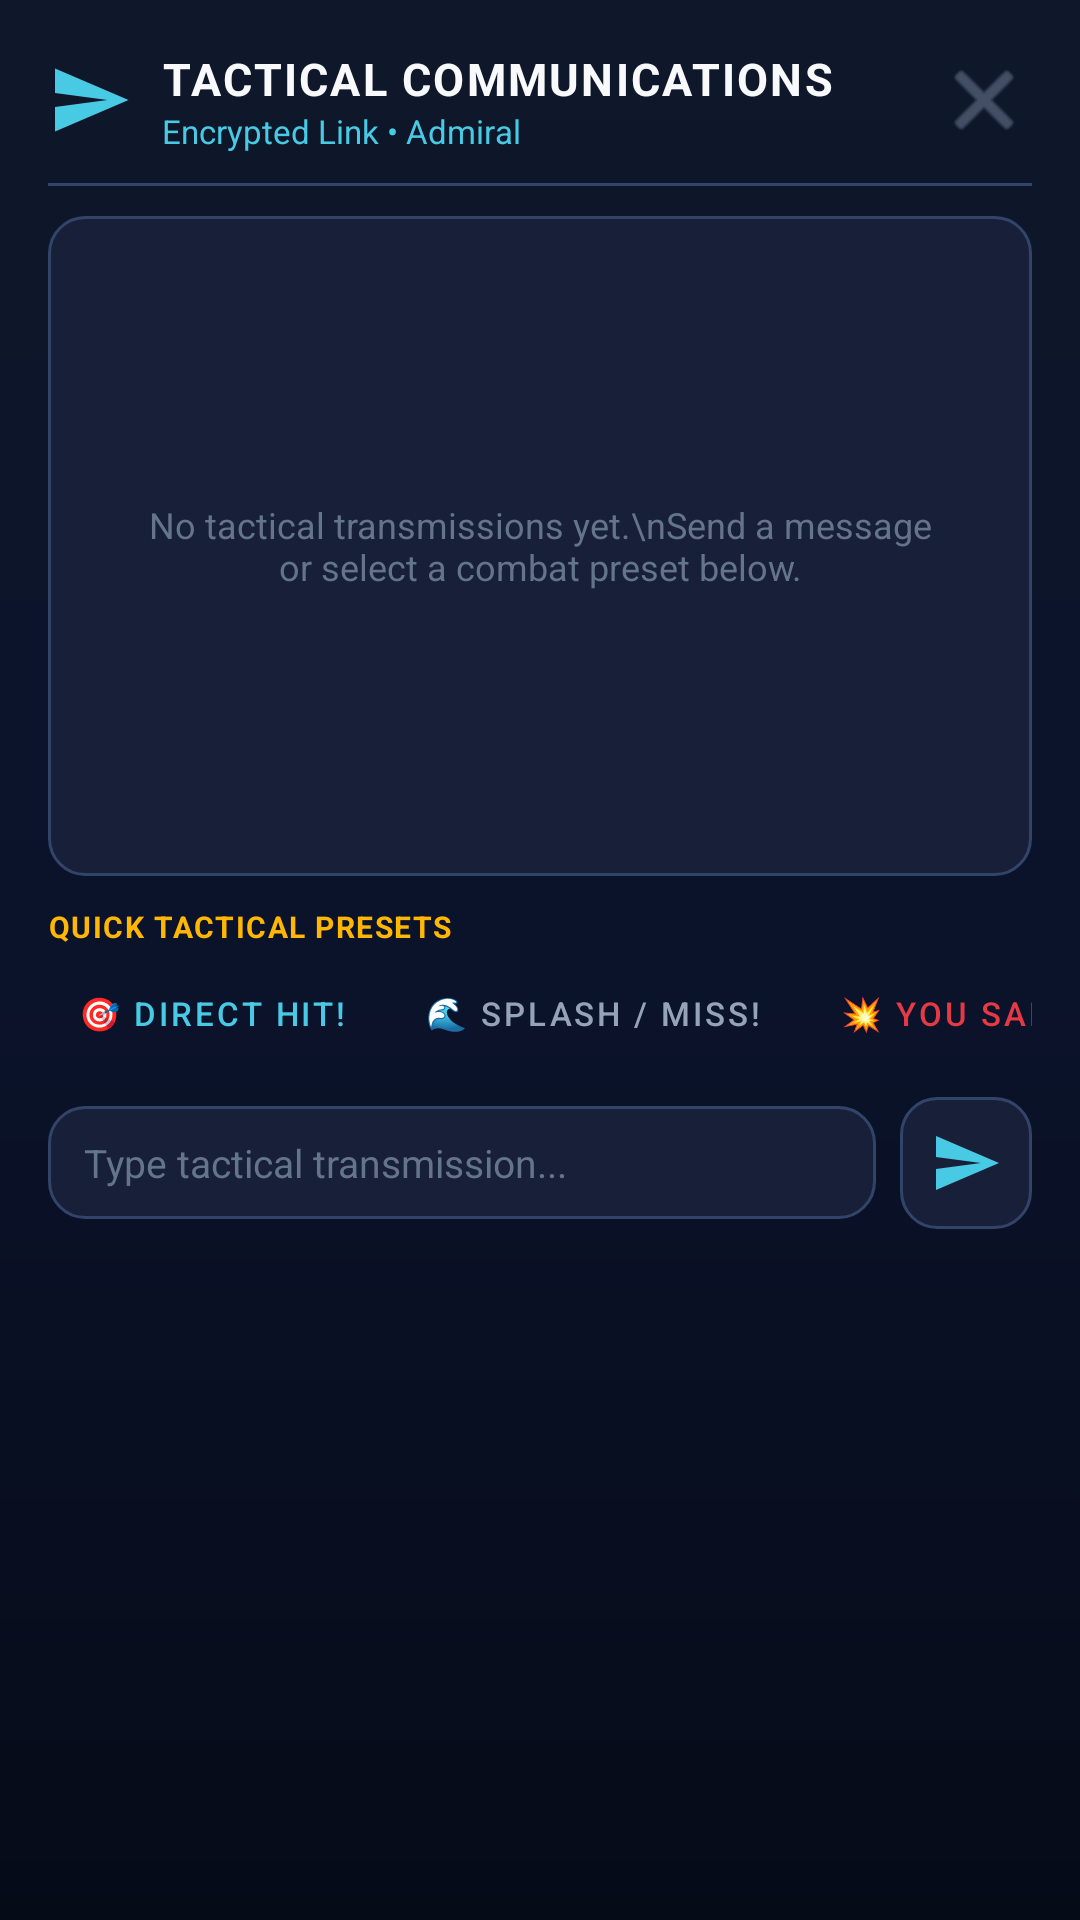

Icons on this 1080 × 1920 Android screen, each with its box as [x1,y1,x2,y2]:
close clear cancel: [955,71,1013,129]
